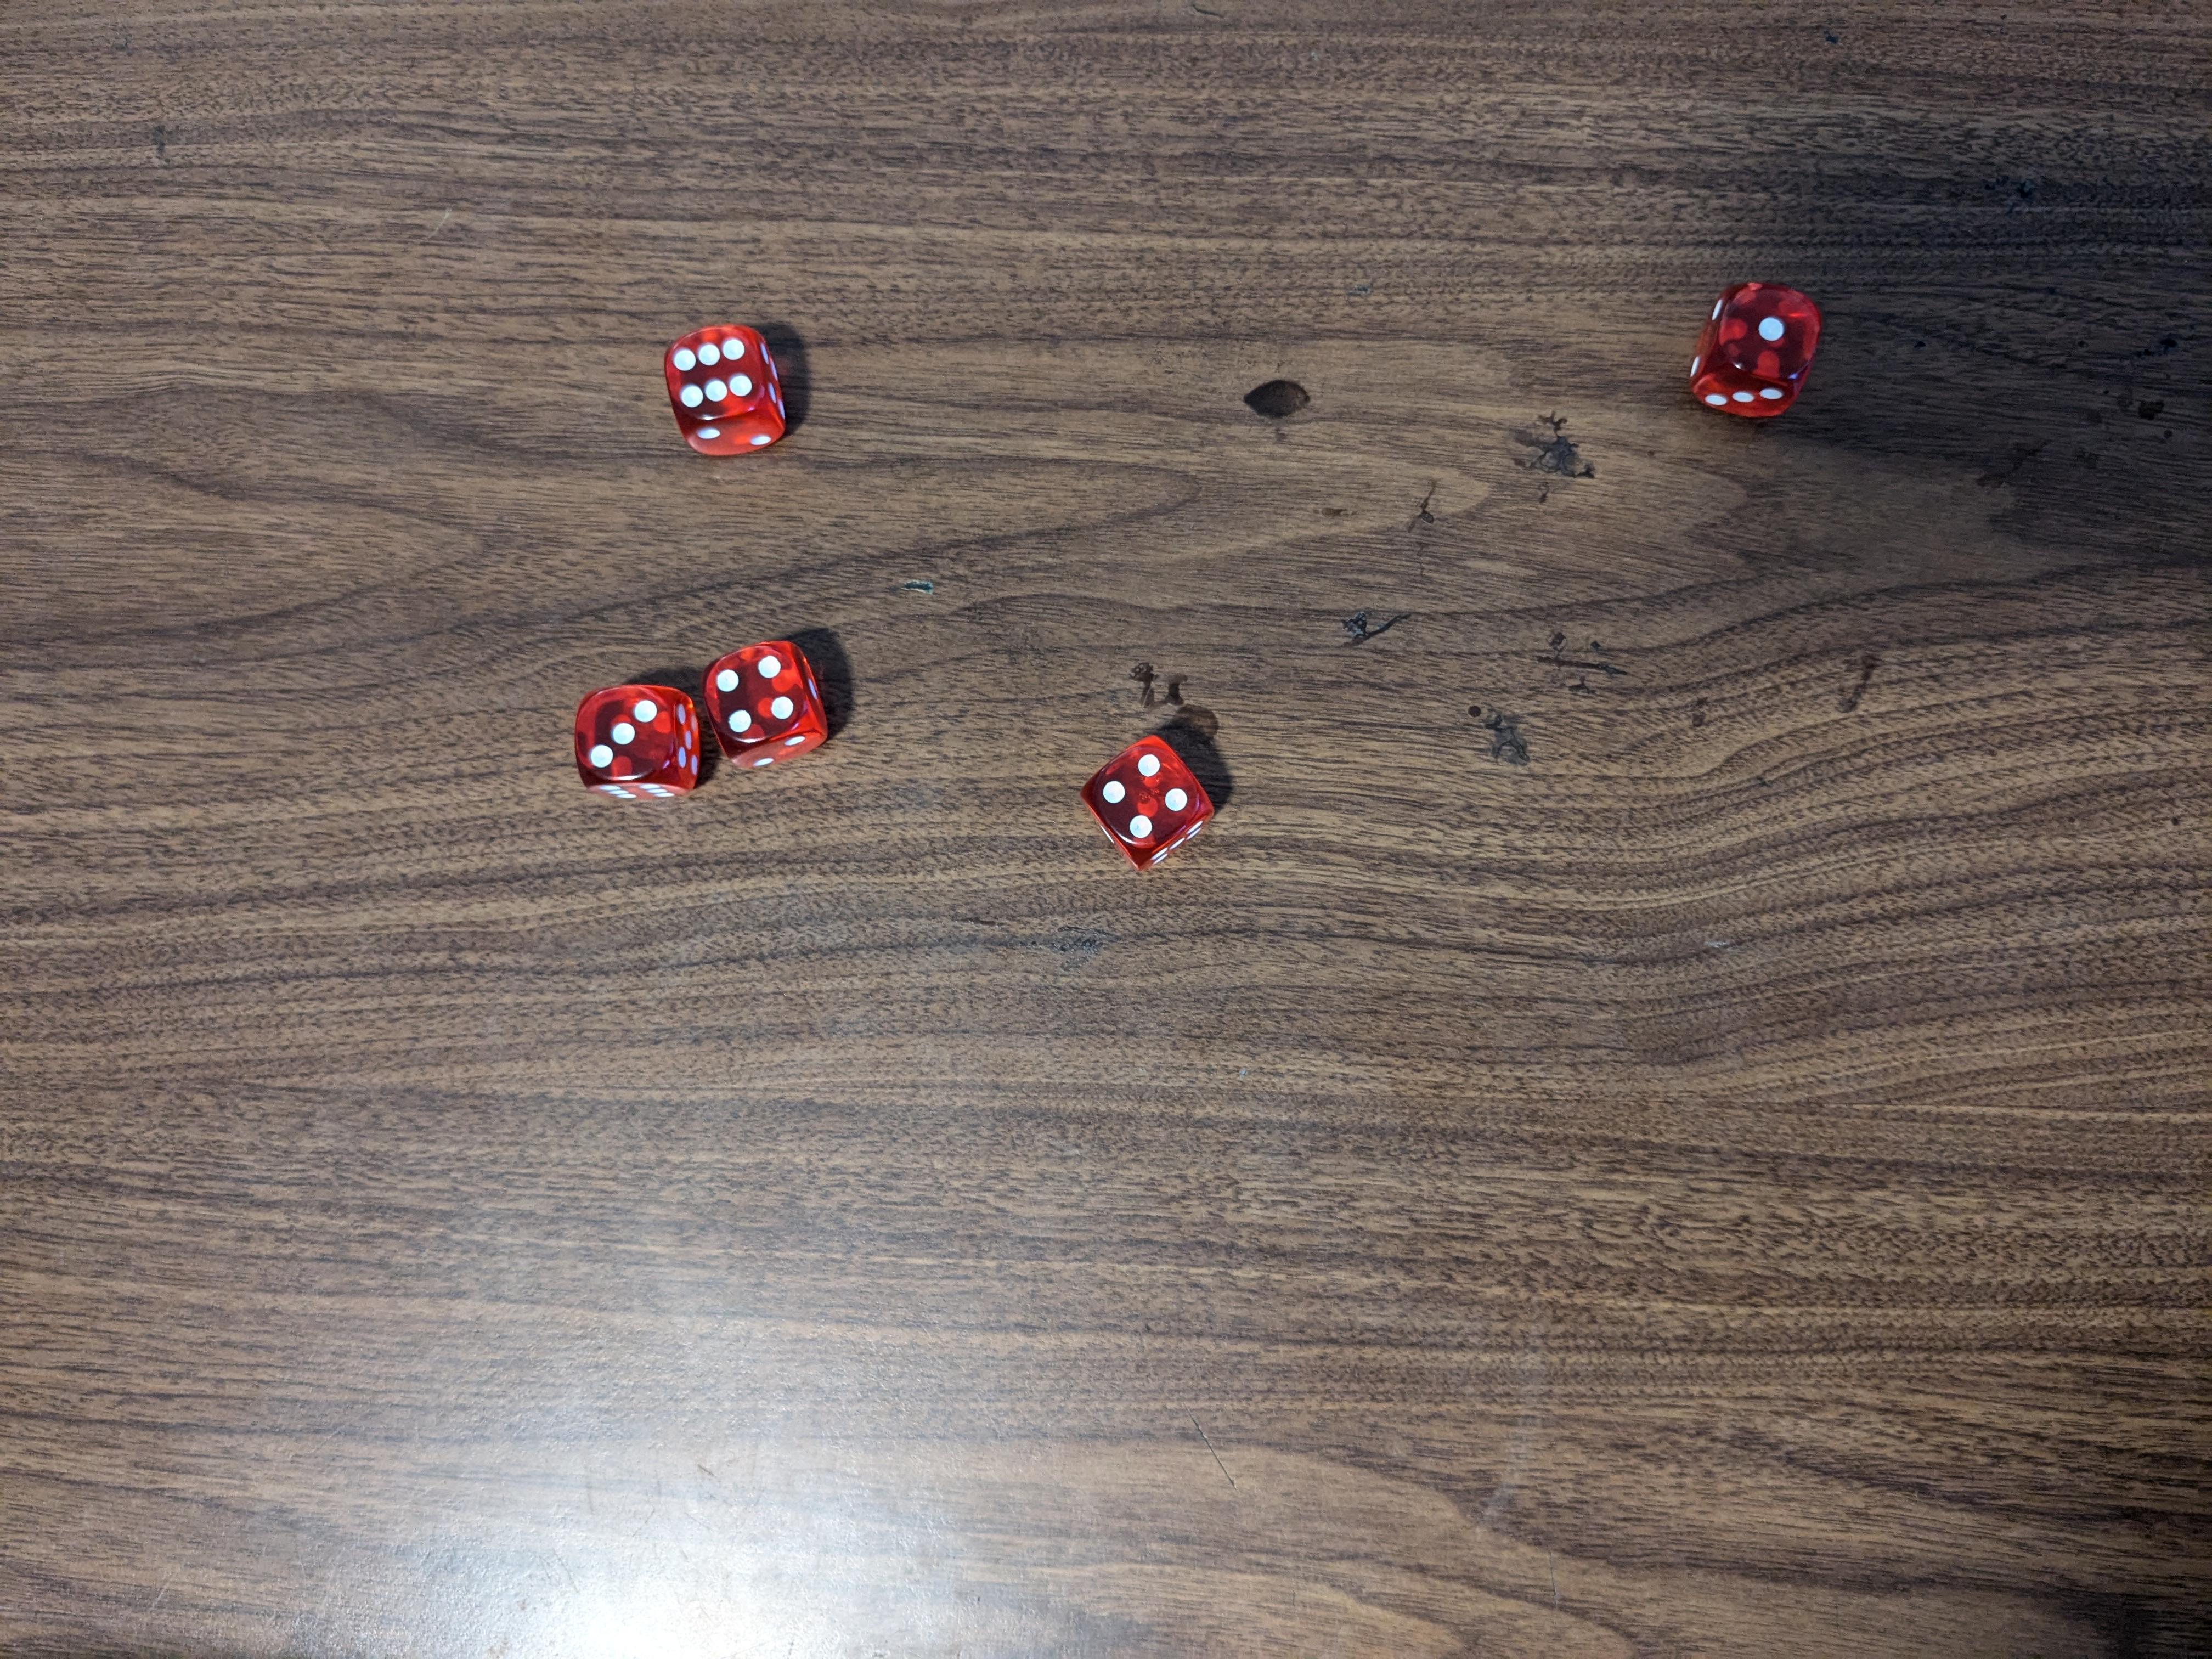four: (1092, 732, 1223, 864), (702, 643, 838, 762)
one: (1684, 277, 1817, 418)
six: (662, 317, 799, 457)
three: (564, 681, 711, 798)
